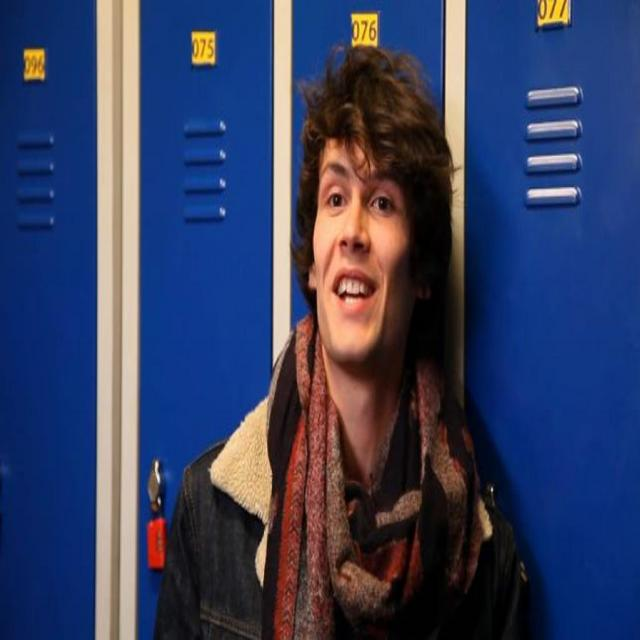nomask: (316, 116, 408, 358)
